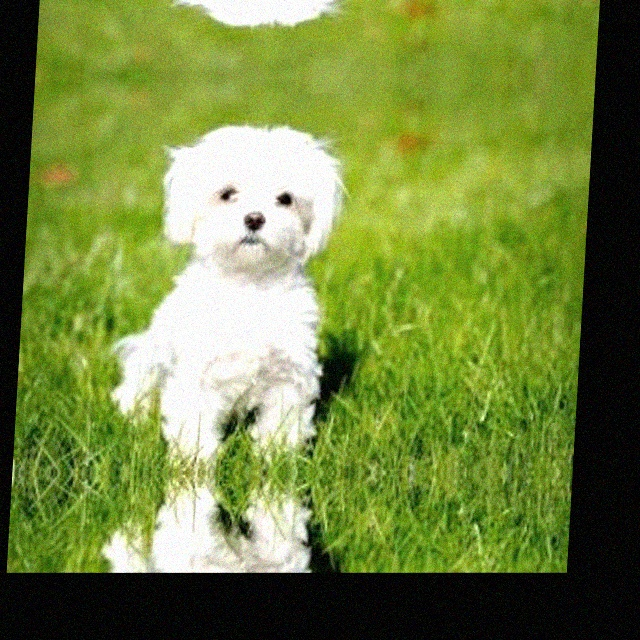dog: (119, 113, 354, 470), (113, 475, 333, 573), (144, 0, 362, 37)
